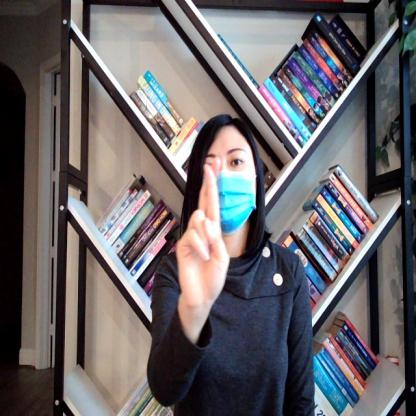right: (178, 153, 230, 304)
